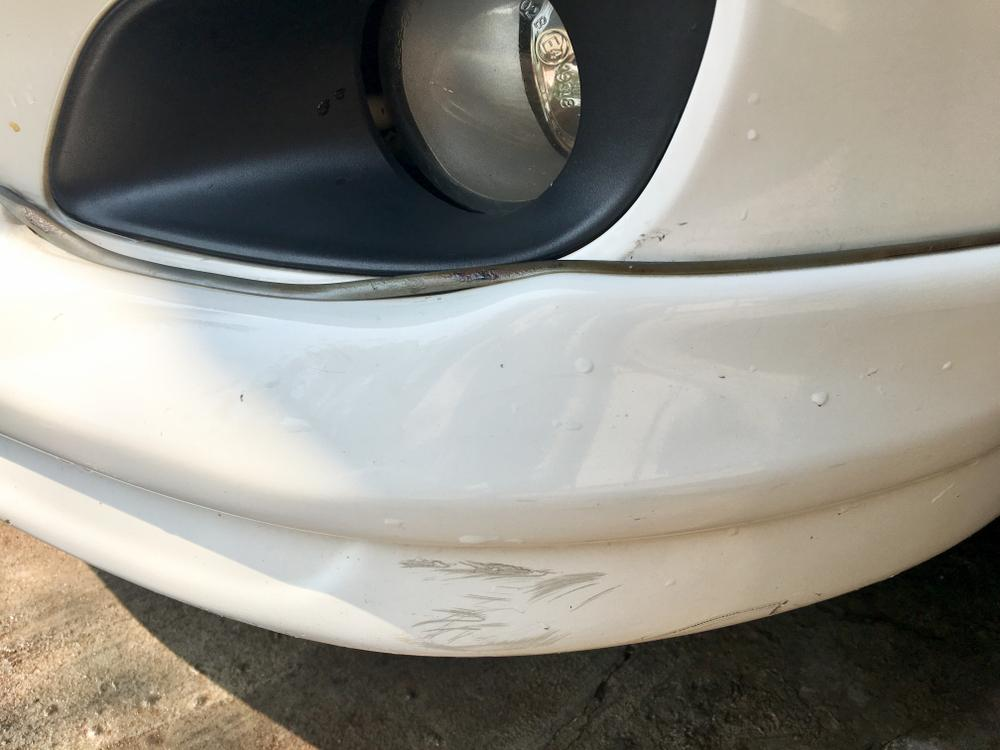scratch: (393, 551, 628, 657)
